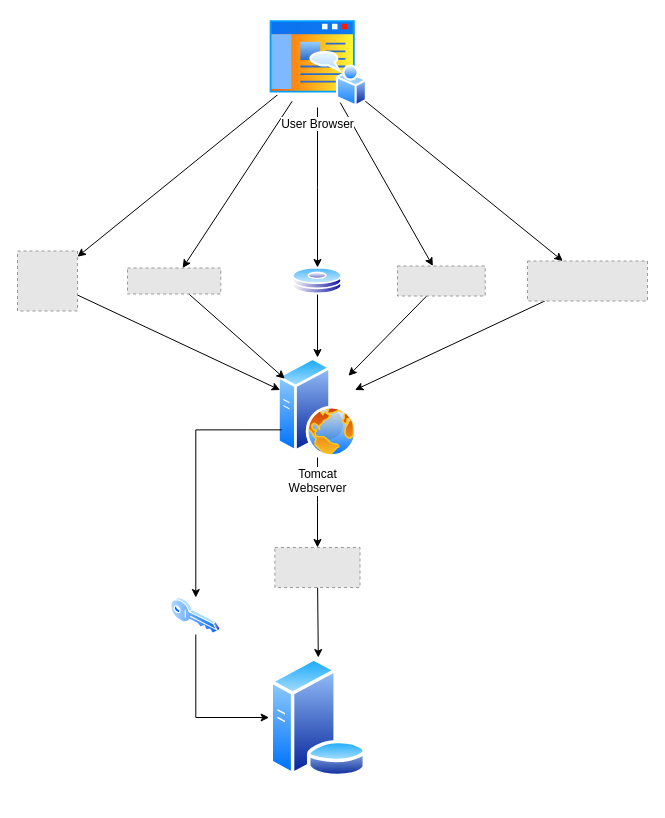
This 665x818 diagram has some shape labels left out. Grey dashed boxes stand in for pictures. The shapes that lost their labels are listed below. From the top down, each one's box as (x1, y1, x2, y2) in pixels, then its label:
(292, 267, 342, 294): Static Pages
(269, 657, 367, 777): Database
